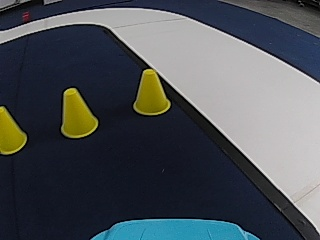cone: (59, 87, 98, 138), (133, 68, 170, 116), (0, 106, 26, 153)
